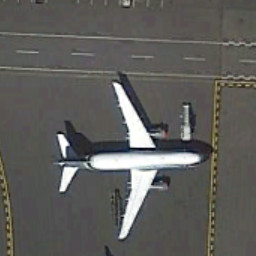Airplane: (45, 70, 212, 250)
